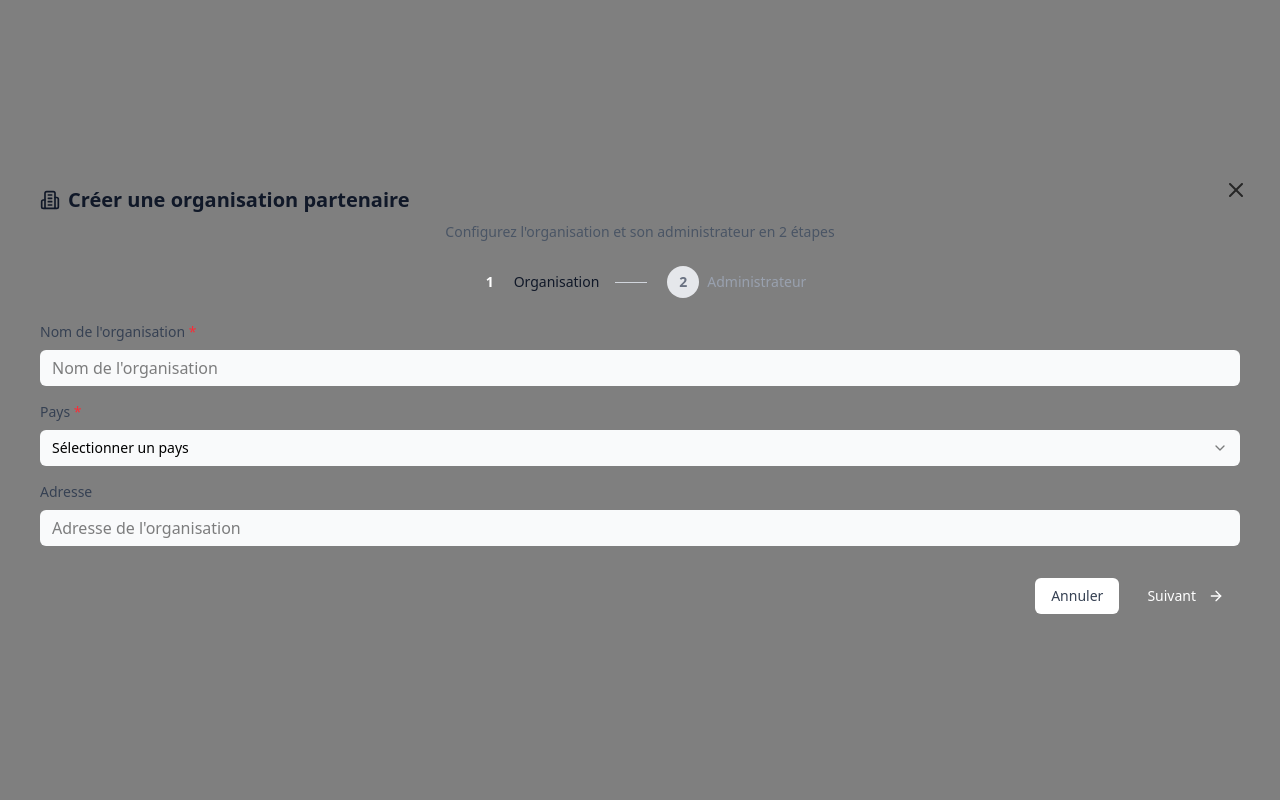
Test: CreateOrganizationModal › validates required fields on step 1
Click the button "Suivant": x=1186, y=596 top-left (1131, 578), bottom-right (1240, 614)
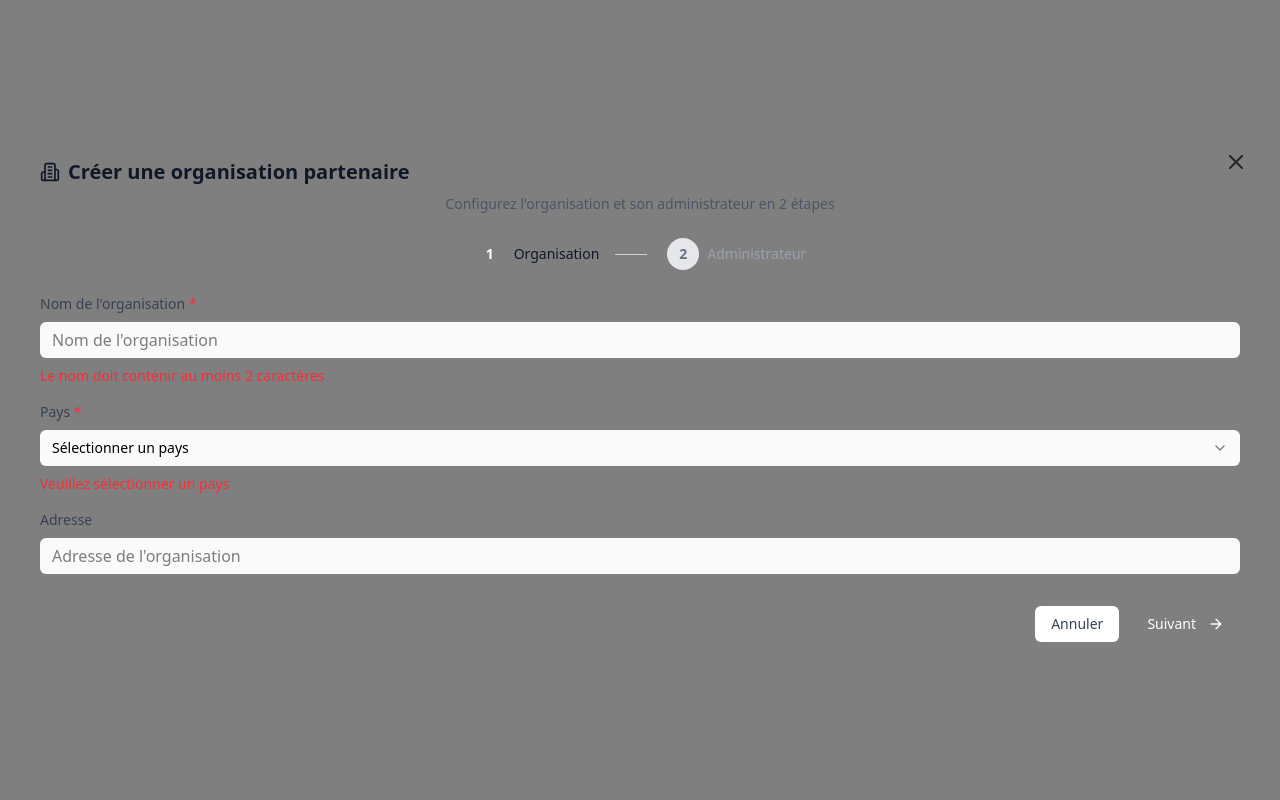
Now the text "Le nom doit contenir au moins 2 caractères" is shown, box top-left (40, 366), bottom-right (324, 385)
Now the text "Veuillez sélectionner un pays" is shown, box top-left (40, 474), bottom-right (229, 493)
